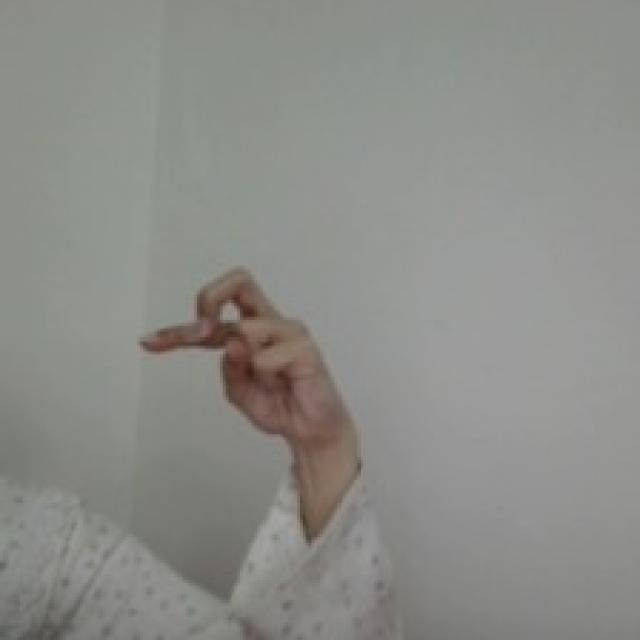sunday: (132, 260, 347, 447)
